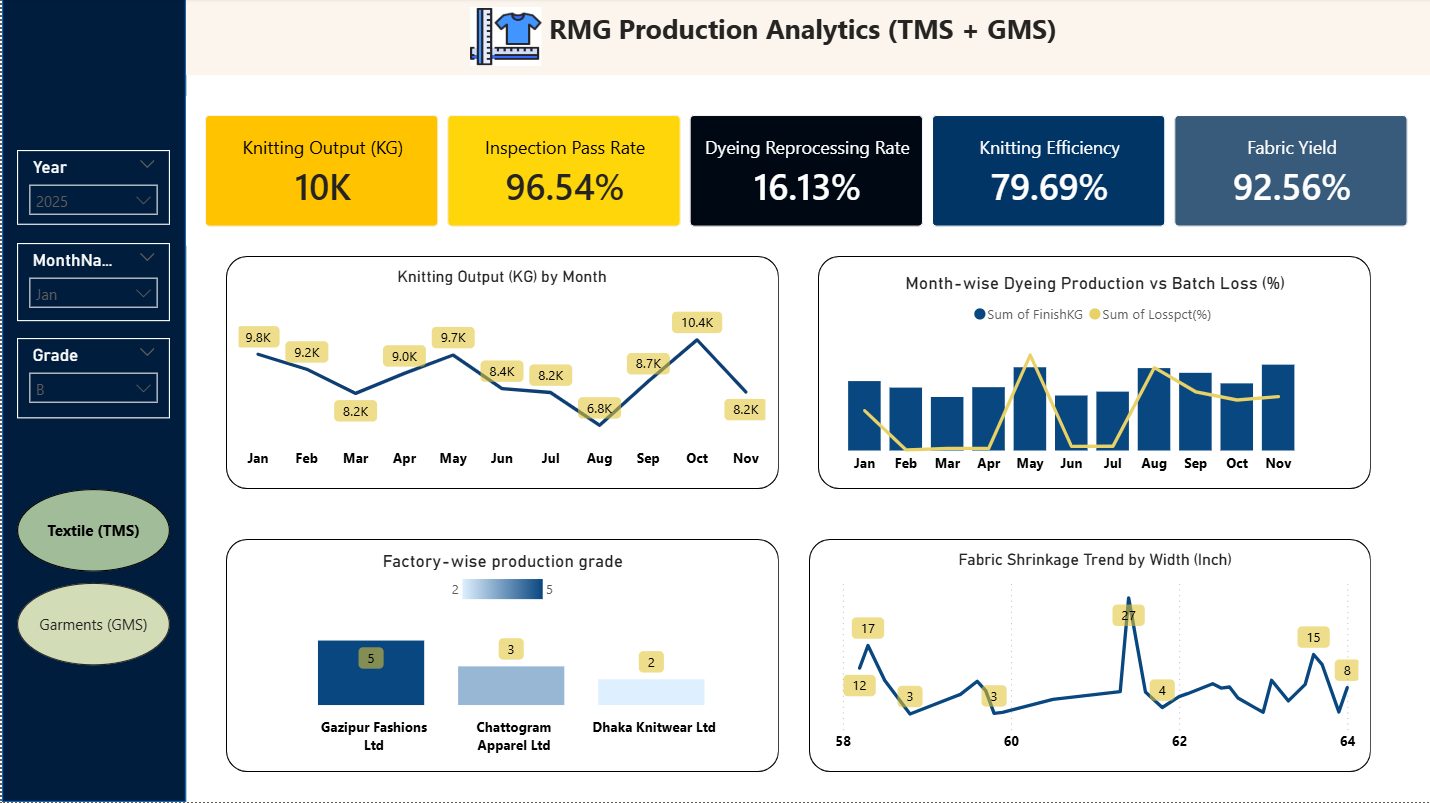

This screenshot's page, from the dashboard's own definition file:
{"tool":"powerbi","page":{"name":" Textile (TMS) ","canvas":[1280,720],"ordinal":0},"visuals":[{"type":"shape","box":[0,0,164.8,720],"z":0},{"type":"shape","box":[164.8,0,1114.9,69],"z":1000},{"type":"cardVisual","fields":{"Data":["_TMS MEASURE_.Knitting Output (KG)","_TMS MEASURE_.Fabric Inspection Pass Rate (%)","_TMS MEASURE_.Dyeing_reprocess_rate(%)","_TMS MEASURE_.Avg_knitting_pct","_TMS MEASURE_.Average_facric_yield(%)"]},"box":[164.8,87.8,1114.9,134.3],"z":2000},{"type":"textbox","box":[164.8,0,1105.1,69],"z":3000},{"type":"shape","box":[200.6,231,495.2,208.7],"z":4000},{"type":"shape","box":[730.7,231,495.2,208.7],"z":5000},{"type":"shape","box":[200.6,484.5,495.2,208.7],"z":6000},{"type":"shape","box":[722.7,484.5,503.3,208.7],"z":7000},{"type":"lineChart","title":"Knitting Output (KG) by Month","fields":{"Category":["dim_date.MonthName"],"Y":["_TMS MEASURE_.Knitting Output (KG)"]},"box":[206.9,240.9,481.8,189.9],"z":8000},{"type":"lineClusteredColumnComboChart","title":"Month-wise Dyeing Production vs Batch Loss (%)","fields":{"Category":["dim_date.MonthName"],"Y":["Sum(fact_dyilng.FinishKG)"],"Y2":["Sum(fact_dyilng.Losspct(%))"]},"box":[737.9,245.4,481.8,189.9],"z":9000},{"type":"slicer","fields":{"Values":["dim_date.Year"]},"box":[13.4,136.1,137,67.2],"z":10000},{"type":"lineChart","title":"Fabric Shrinkage Trend by Width (Inch)","fields":{"Category":["fact_fabric_finishing.WidthInch"],"Y":["Sum(fact_fabric_finishing.ShrinkagePct)"]},"box":[737.9,494.3,481.8,189.9],"z":11000},{"type":"columnChart","title":"Factory-wise production grade","fields":{"Y":["CountNonNull(fact_fabric_inspection.Grade)"],"Category":["dim_factory.FactoryName"]},"box":[207.8,494.3,481.8,189.9],"z":12000},{"type":"slicer","fields":{"Values":["dim_date.MonthName"]},"box":[13.4,219,137,69.9],"z":13000},{"type":"slicer","fields":{"Values":["fact_fabric_inspection.Grade"]},"box":[13.4,304.5,137,71.6],"z":14000},{"type":"pageNavigator","box":[13.4,439.7,137,159.4],"z":15000},{"type":"actionButton","box":[419.1,8.1,64.5,52.8],"z":16000}]}

Visuals, with their boxes in screenshot pixels (x1, y1, x2, y2), scaled from the page's 1280x720 canvas onto the 1430x803 screenshot:
shape: (x1=0, y1=0, x2=184, y2=802)
shape: (x1=184, y1=0, x2=1429, y2=77)
cardVisual - _TMS MEASURE_.Knitting Output (KG) x _TMS MEASURE_.Fabric Inspection Pass Rate (%): (x1=184, y1=98, x2=1429, y2=248)
textbox: (x1=184, y1=0, x2=1419, y2=77)
shape: (x1=224, y1=258, x2=777, y2=490)
shape: (x1=816, y1=258, x2=1370, y2=490)
shape: (x1=224, y1=540, x2=777, y2=773)
shape: (x1=807, y1=540, x2=1370, y2=773)
"Knitting Output (KG) by Month" lineChart: (x1=231, y1=269, x2=769, y2=480)
"Month-wise Dyeing Production vs Batch Loss (%)" lineClusteredColumnComboChart: (x1=824, y1=274, x2=1363, y2=485)
slicer - dim_date.Year: (x1=15, y1=152, x2=168, y2=227)
"Fabric Shrinkage Trend by Width (Inch)" lineChart: (x1=824, y1=551, x2=1363, y2=763)
"Factory-wise production grade" columnChart: (x1=232, y1=551, x2=770, y2=763)
slicer - dim_date.MonthName: (x1=15, y1=244, x2=168, y2=322)
slicer - fact_fabric_inspection.Grade: (x1=15, y1=340, x2=168, y2=419)
pageNavigator: (x1=15, y1=490, x2=168, y2=668)
actionButton: (x1=468, y1=9, x2=540, y2=68)
